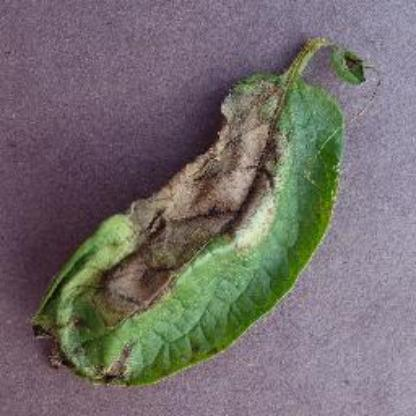Late-Blight: (24, 25, 374, 389)
